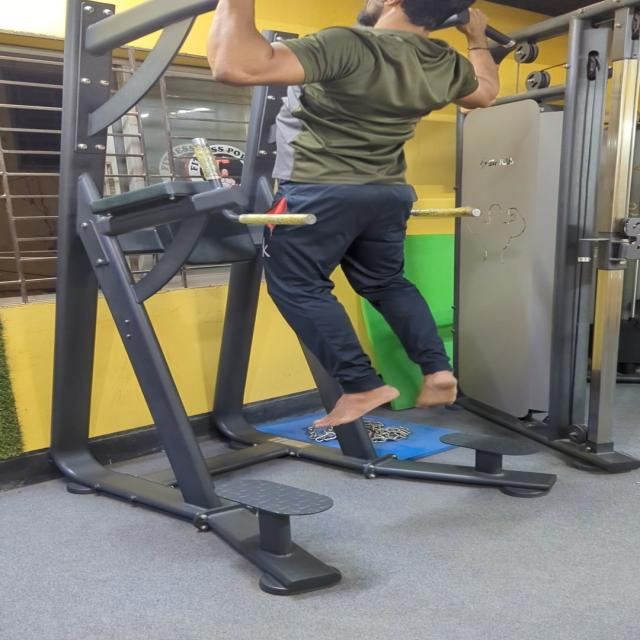Normal_PullUps: (169, 0, 515, 479)
